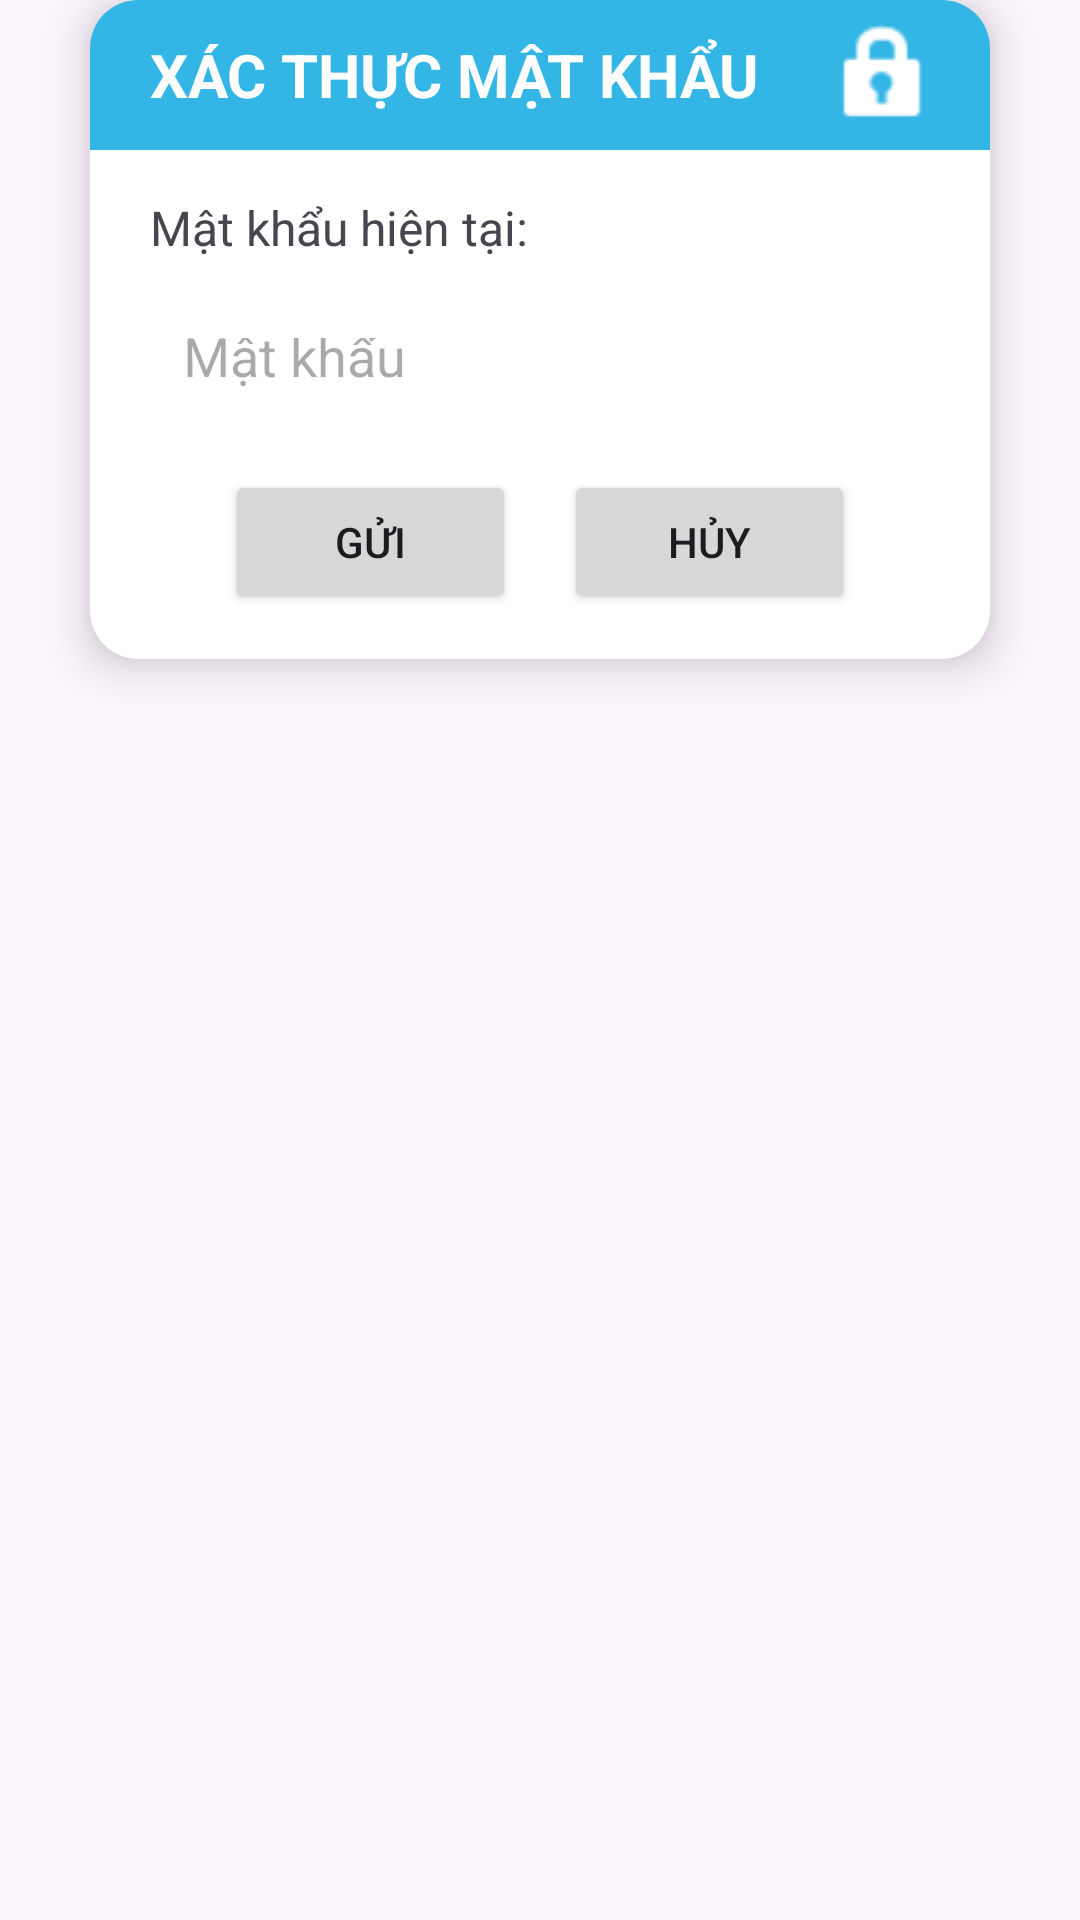

Icon bounding boxes for this 1080×1920 phone screenshot, format (left=x1, top=y1, right=x2, bottom=y2):
lock idle: (left=843, top=25, right=922, bottom=117)
